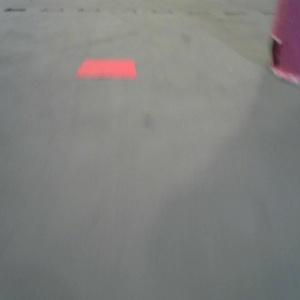right: (255, 1, 300, 87)
